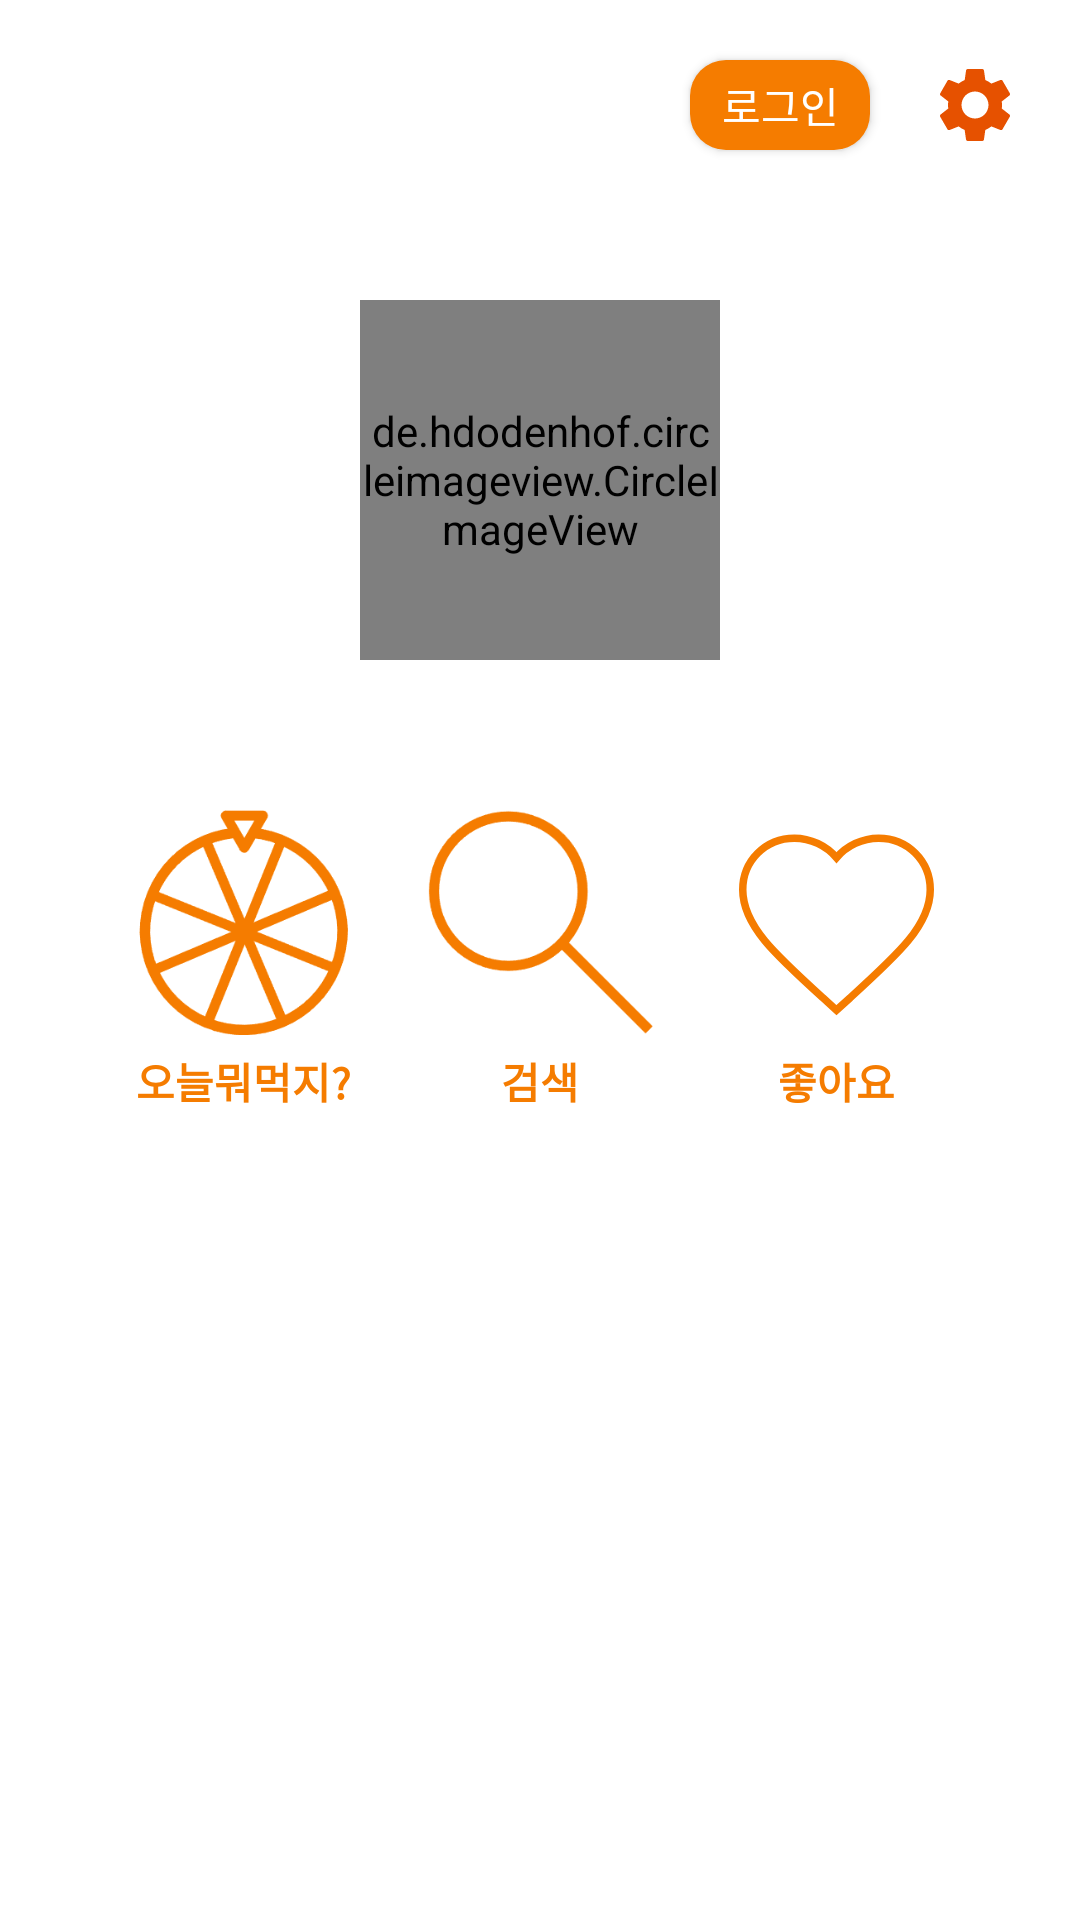

Locate icon controls on the screen. Image size 1080 × 1920, boxes as (x1, y1, x2, y2).
heart: (739, 834, 934, 1015)
roulette: (139, 810, 348, 1035)
settings: (940, 69, 1010, 141)
